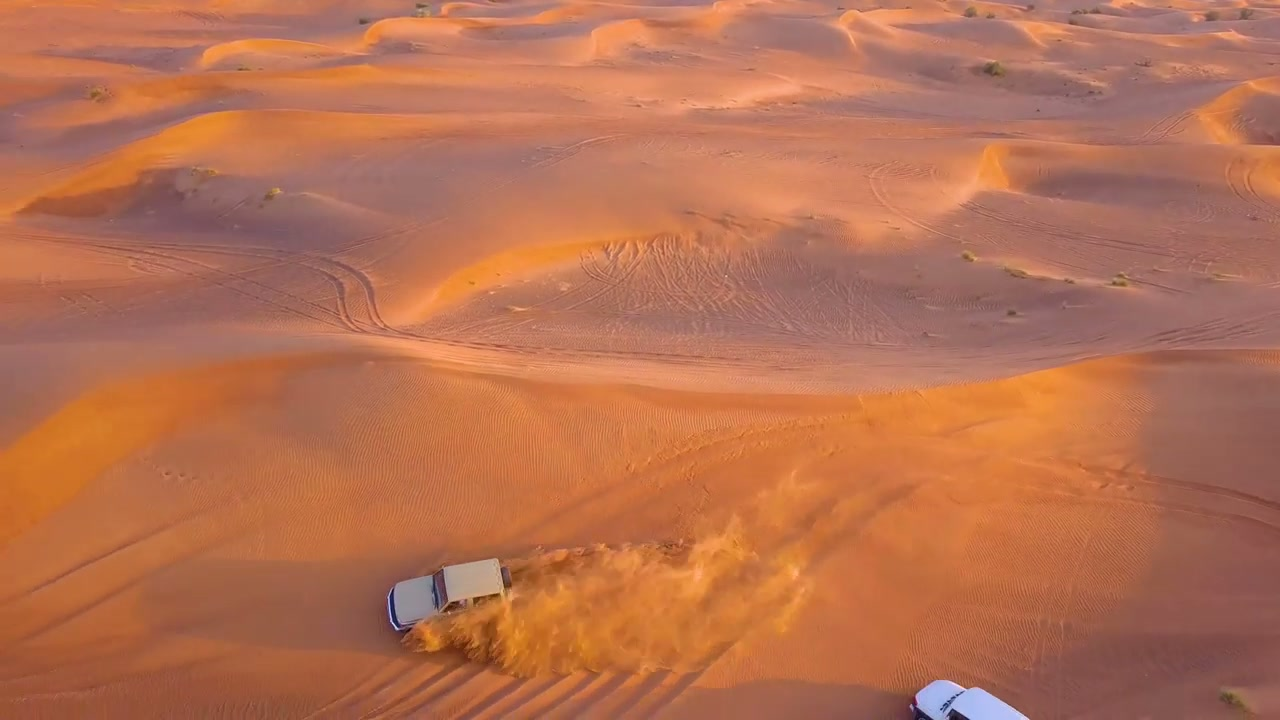vehicle_track: (10, 231, 794, 376), (18, 233, 410, 336), (340, 135, 629, 254), (14, 233, 361, 332), (145, 243, 398, 332), (1073, 463, 1279, 536), (961, 199, 1176, 257), (1077, 463, 1279, 521), (866, 160, 963, 242), (358, 659, 486, 719), (453, 677, 564, 719), (1224, 156, 1279, 219), (1130, 110, 1192, 144)
